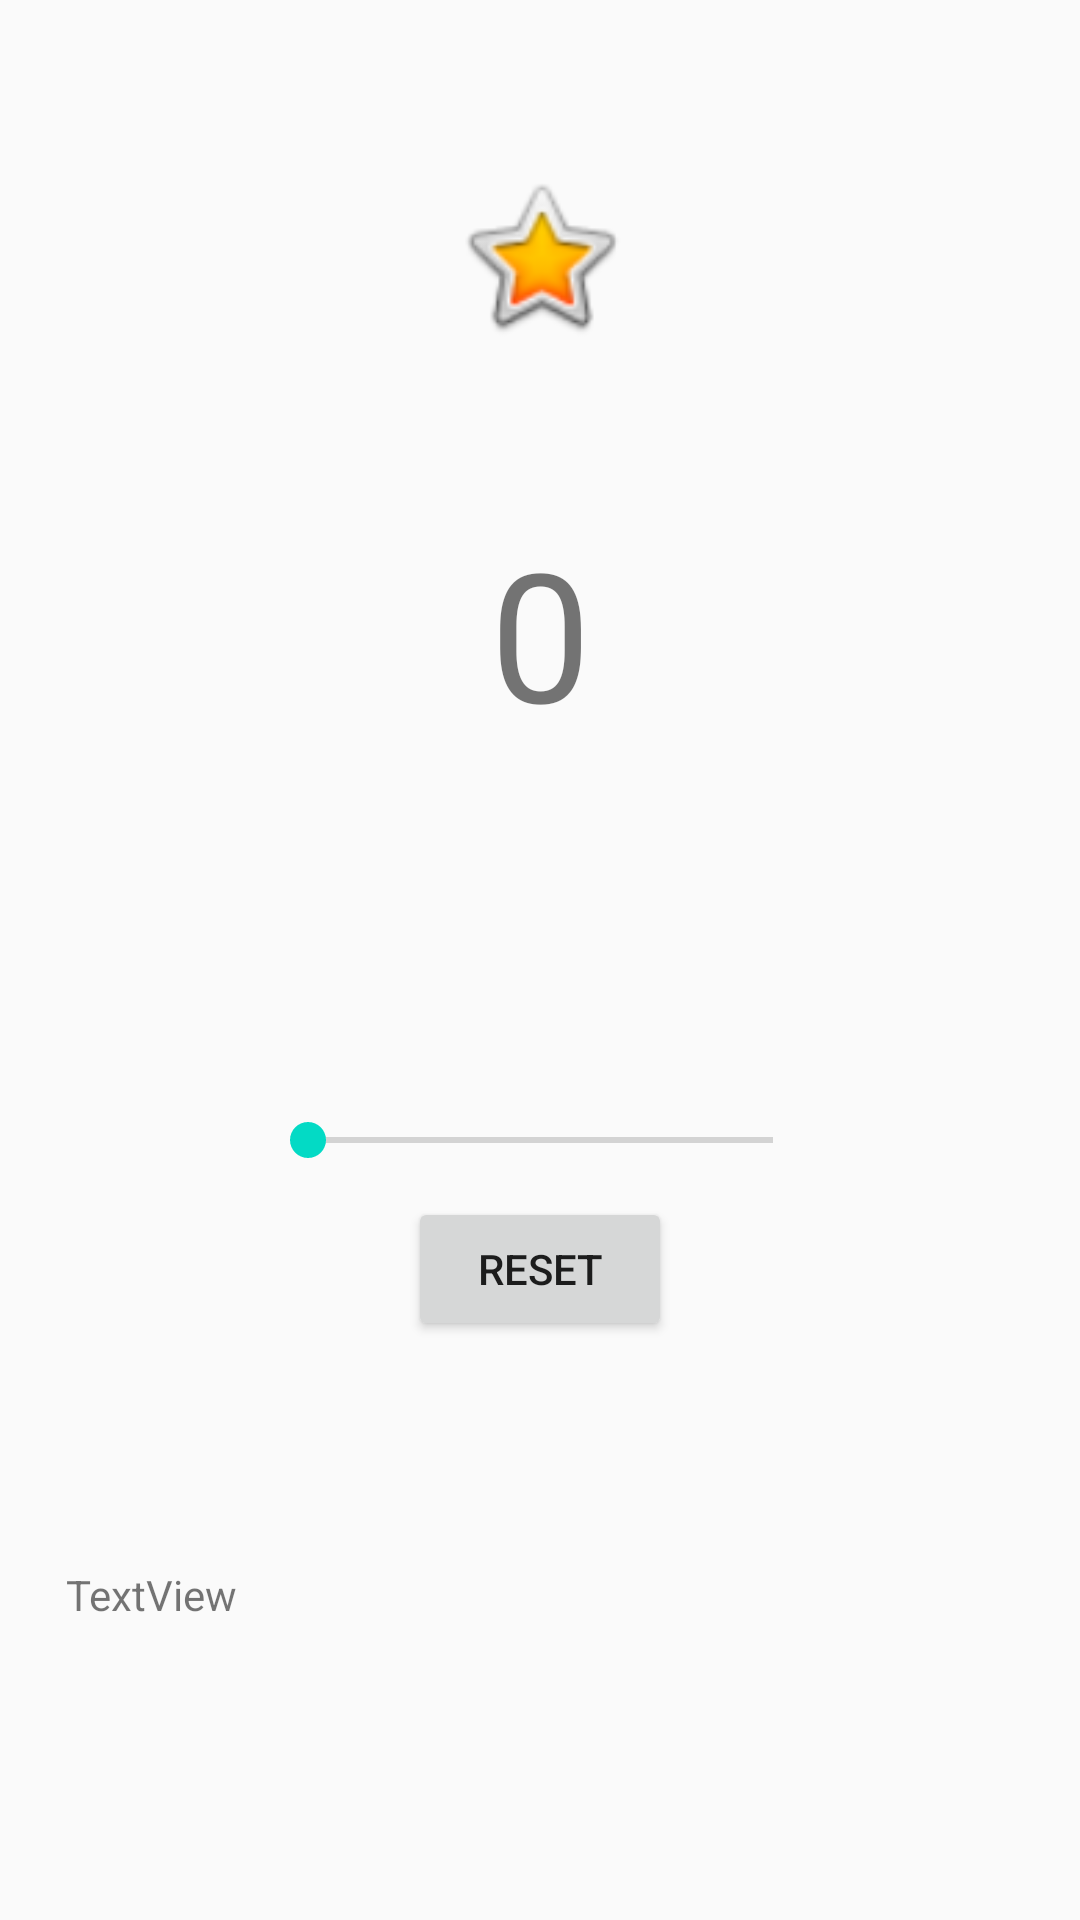

Point at icon controls on the screen. Image size 1080 × 1920, points as [x,y].
star on: [542,258]
